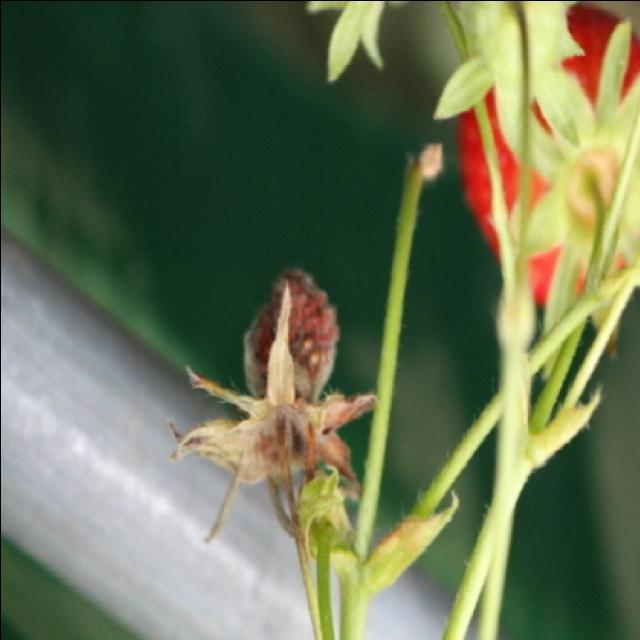Gray Mold: (165, 264, 379, 543)
